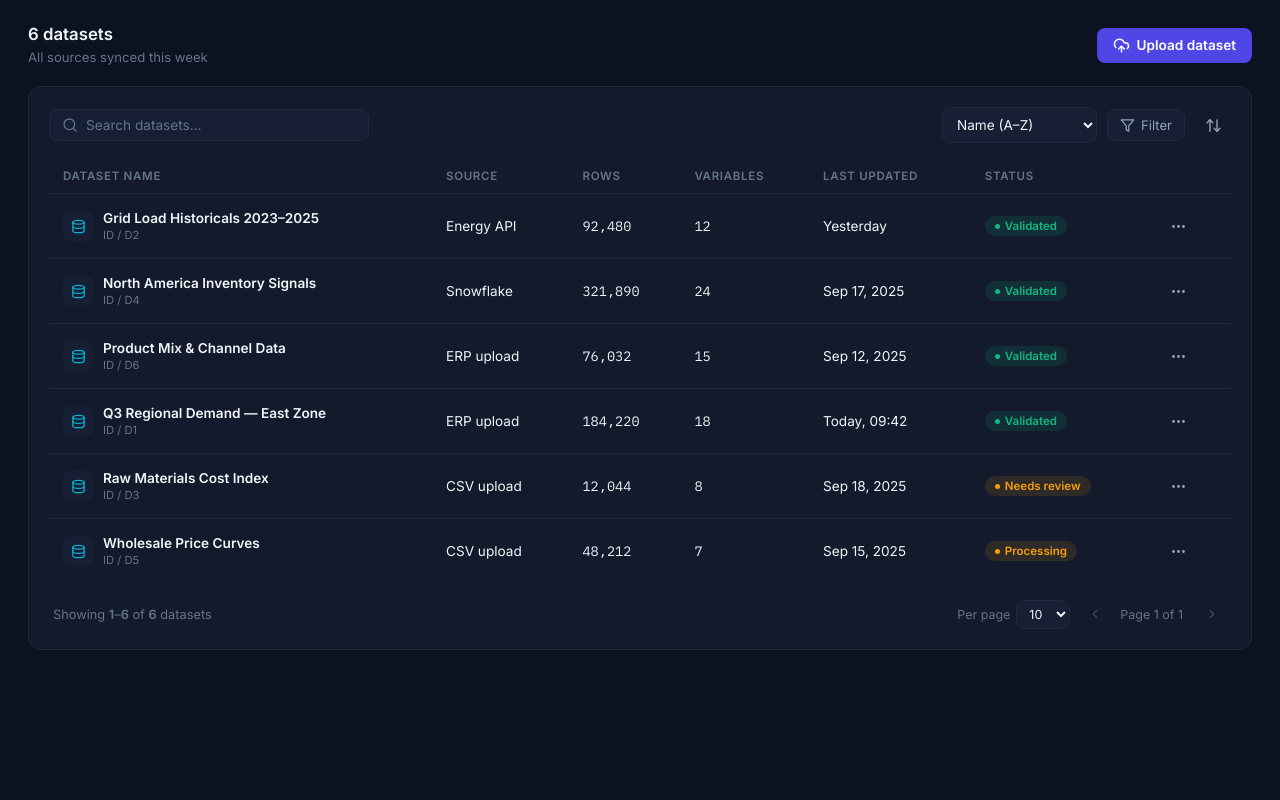
Test: DatasetsPage › asks for confirmation before deleting a dataset and cancels safely
The image size is (1280, 800).
Click the button named "Options for" at (1179, 226), box [1161,208,1197,244]
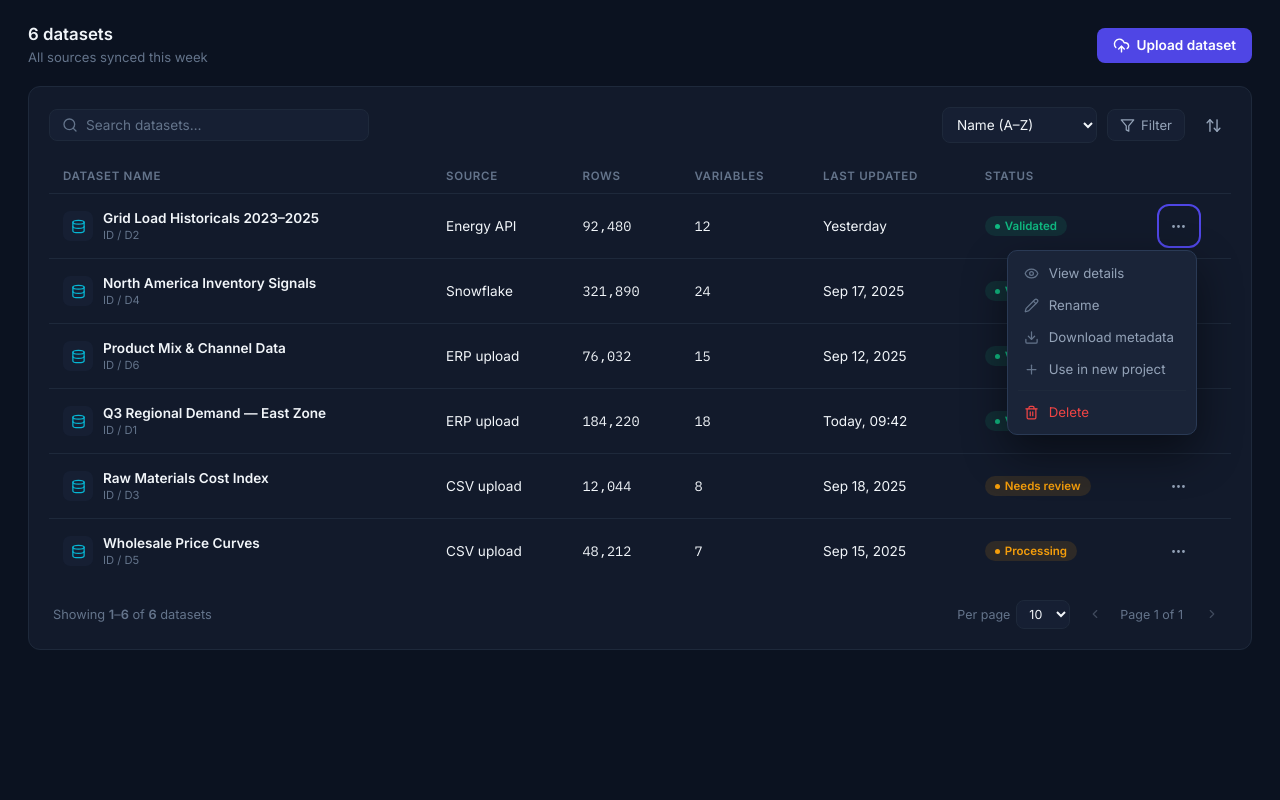
Click the menu item "Delete" at (1102, 412), box [1014,396,1190,428]
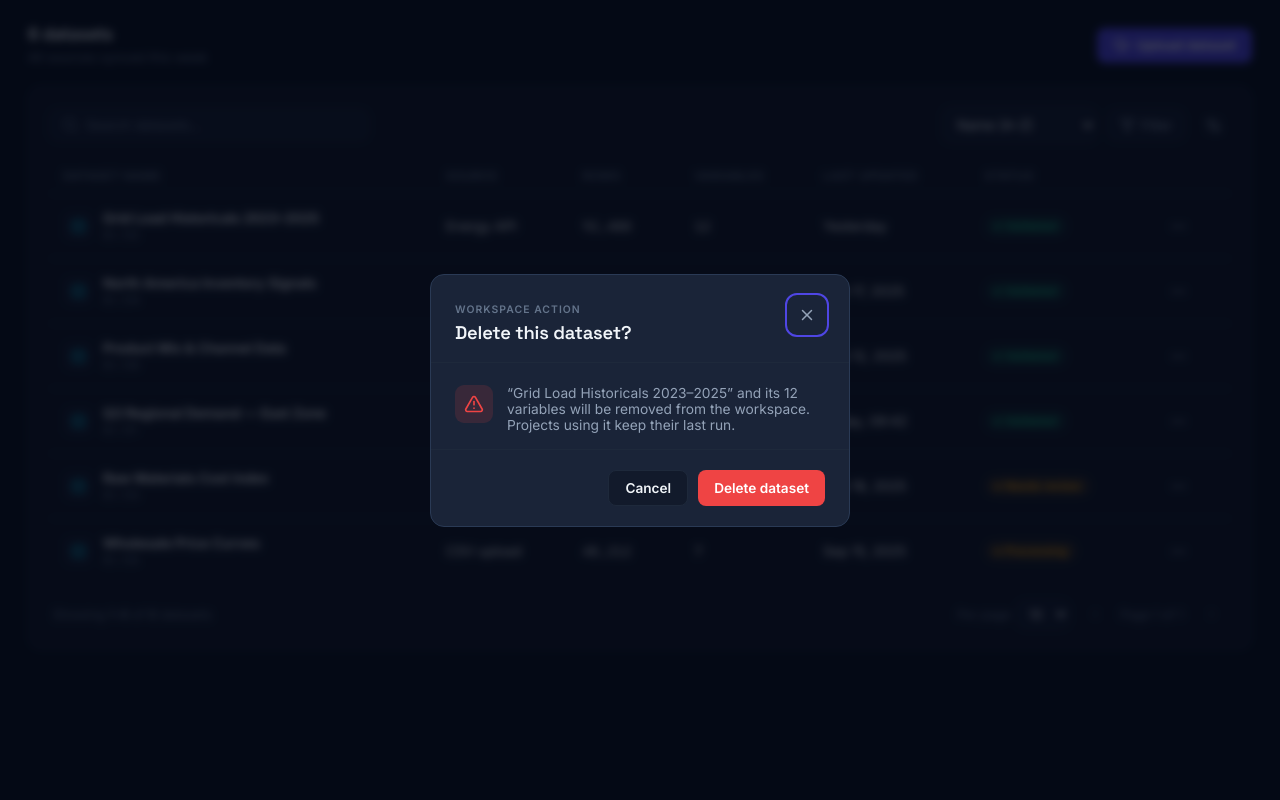
Expected: the dialog shows "will be removed from the workspace", [507,384,810,432]
Click the button "Cancel" at (648, 488), box [608,470,688,506]
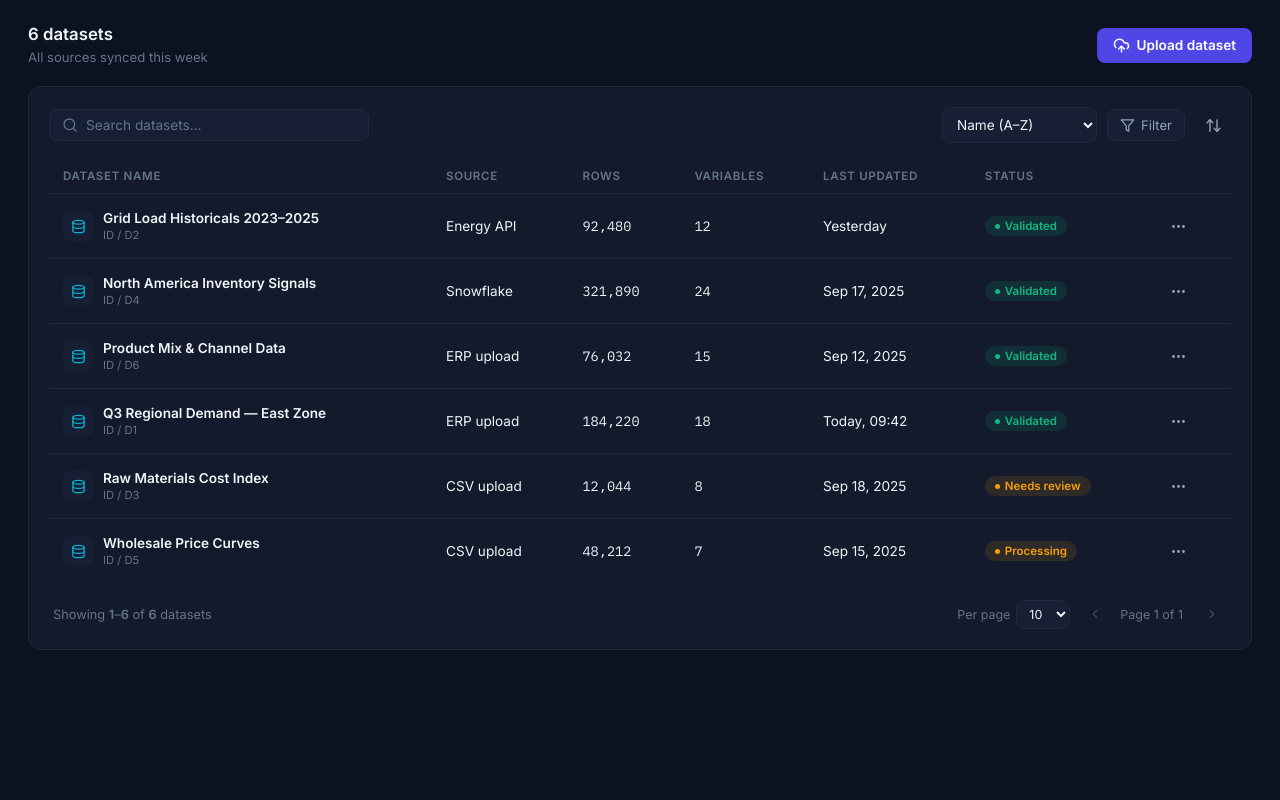
Expected: the dialog is gone
Expected: the number of buttons named "Options for" is 6, [1161,208,1197,244]; [1161,273,1197,309]; [1161,338,1197,374]; [1161,403,1197,439]; [1161,468,1197,504]; [1161,533,1197,569]
